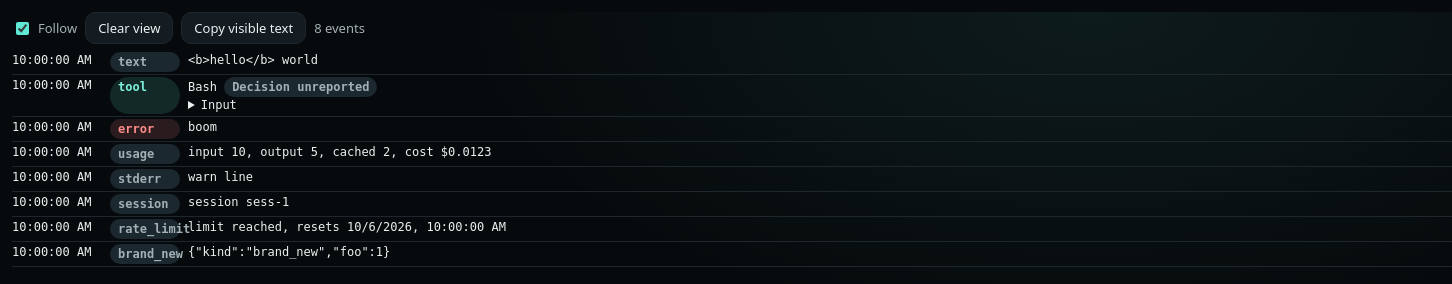
RunLog › renders each event kind distinctly
Expected: the element with class "log-line" shows "<b>hello</b> world", [188,53,318,67]
Expected: the element with class "log-line" shows "Bash", [188,80,217,94]
Click the button "Clear view" at (129, 28), box [85,12,173,44]
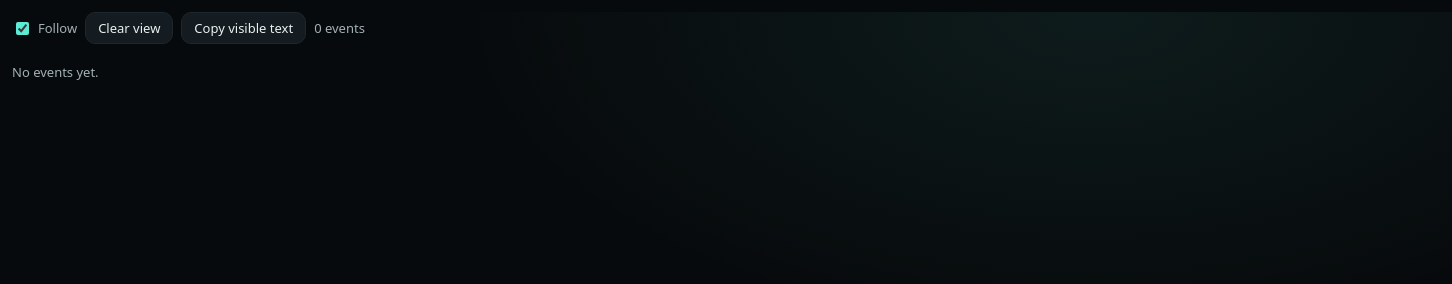
Expected: no elements with class "log-line" are shown
